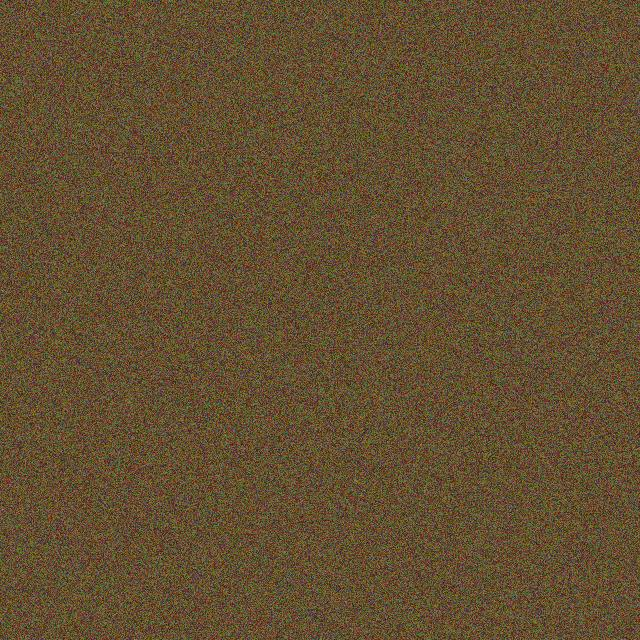human: (201, 146, 244, 252)
